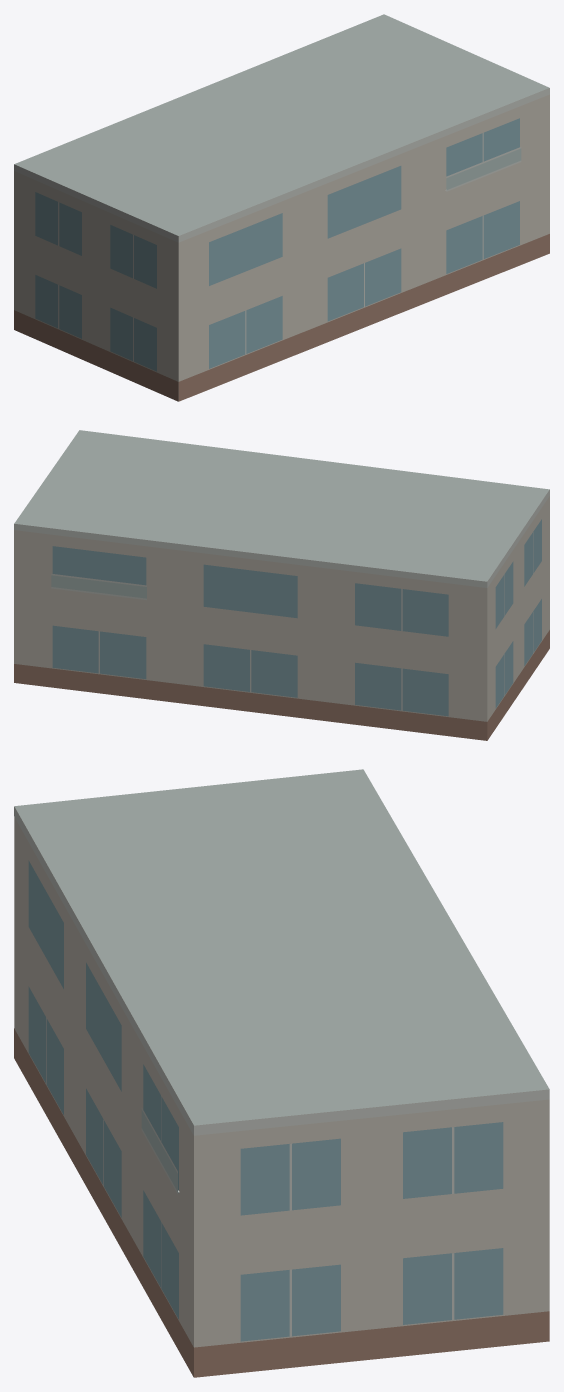
File: survey-upis-32937482.glb
3 renders of one model, top to bottom at view 1: azimuth 30°, elevation 25°; view 2: azimuth 150°, elevation 25°; view 3: azimuth 270°, elevation 25°, orthographic. The views are drawn at different scales.
Parts seen in each view (by area): view 1: survey-upis-32937482.tmp; view 2: survey-upis-32937482.tmp; view 3: survey-upis-32937482.tmp.
Boxes of the visible parts, x1,y1,x2,y2 form: survey-upis-32937482.tmp: (14, 14, 549, 401); survey-upis-32937482.tmp: (14, 430, 549, 740); survey-upis-32937482.tmp: (14, 769, 549, 1377).
Bounding box in the file's own units: 18.52 × 6.1 × 11.76.
